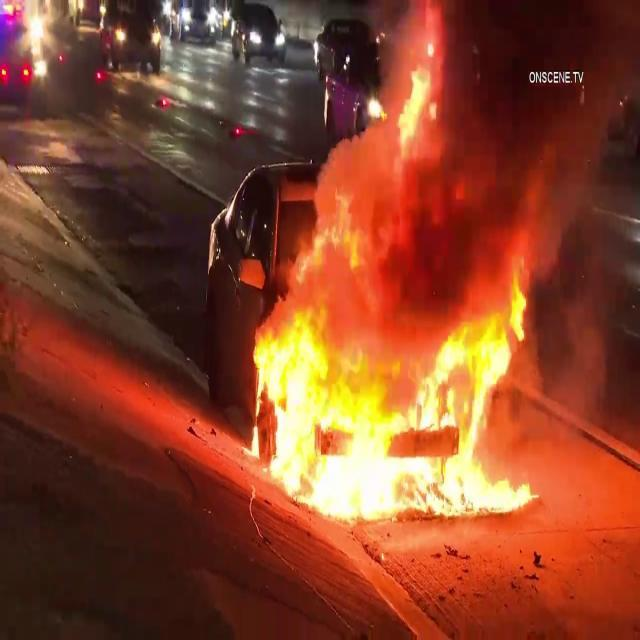Fire: (248, 314, 522, 522)
Smoke: (290, 0, 640, 318), (508, 82, 640, 526), (513, 257, 640, 531)
